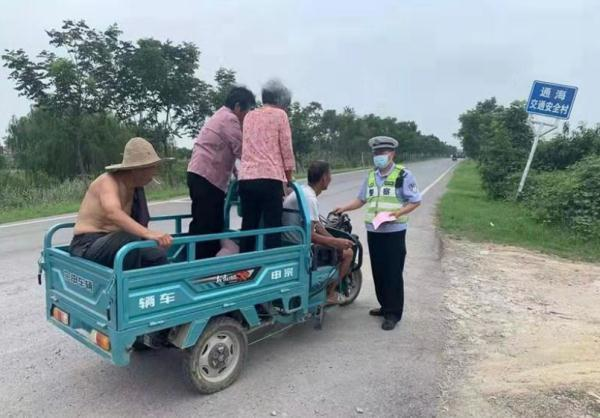driver: (285, 155, 345, 297)
overloading: (35, 94, 363, 392)
passenger: (81, 137, 164, 262), (184, 87, 244, 248), (245, 77, 298, 250)
